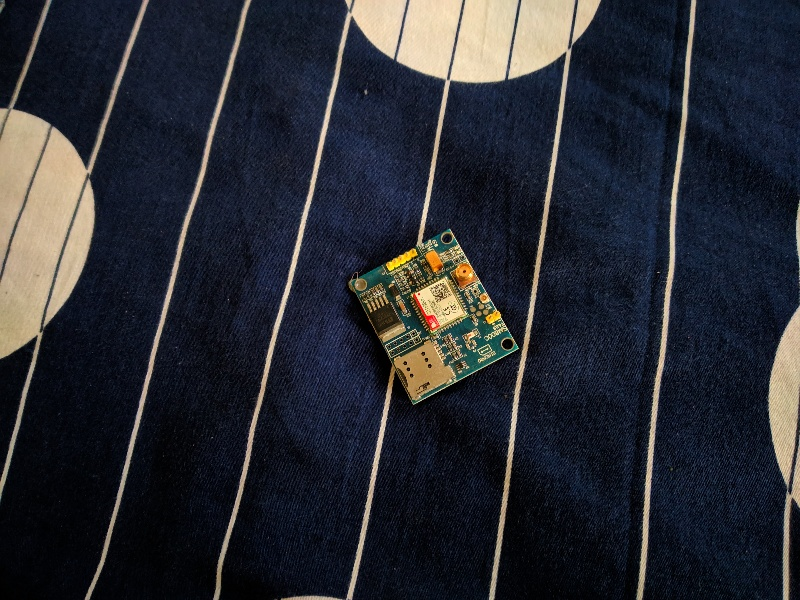SIM800: (344, 224, 523, 409)
